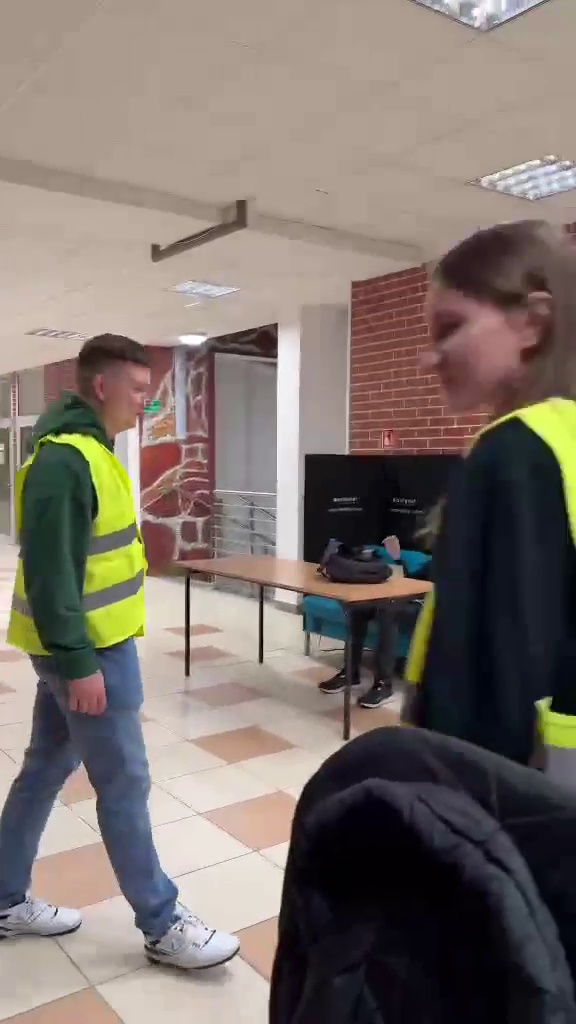vest: (11, 338, 239, 973), (421, 220, 576, 766)
